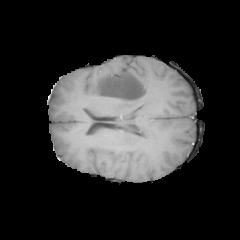glioma: (87, 68, 149, 161)
